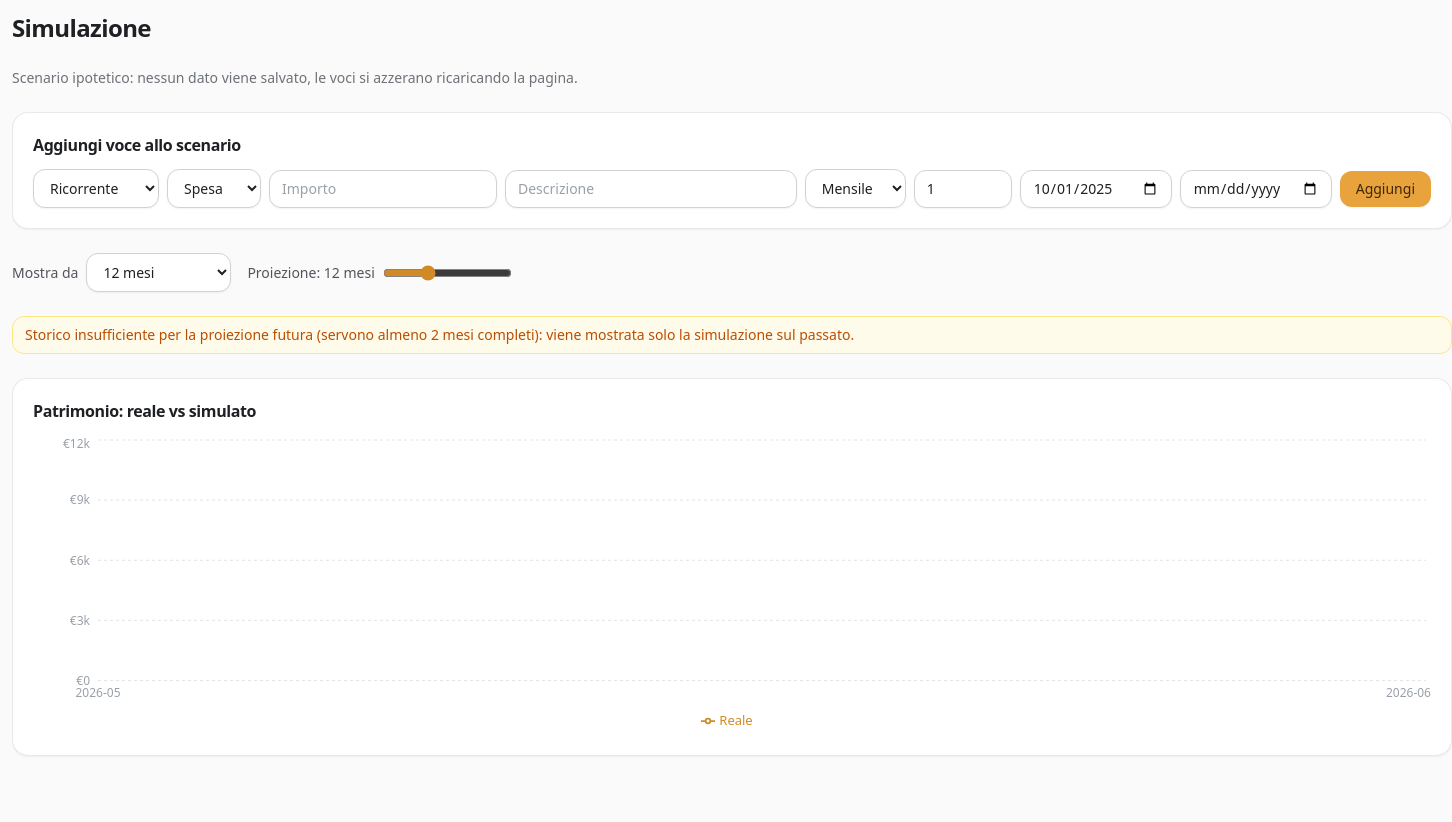
Test: SimulationPage › removes a scenario item
The image size is (1452, 822).
Type "800" into the number field labelled "Importo" at (383, 188), box [269,170,497,208]
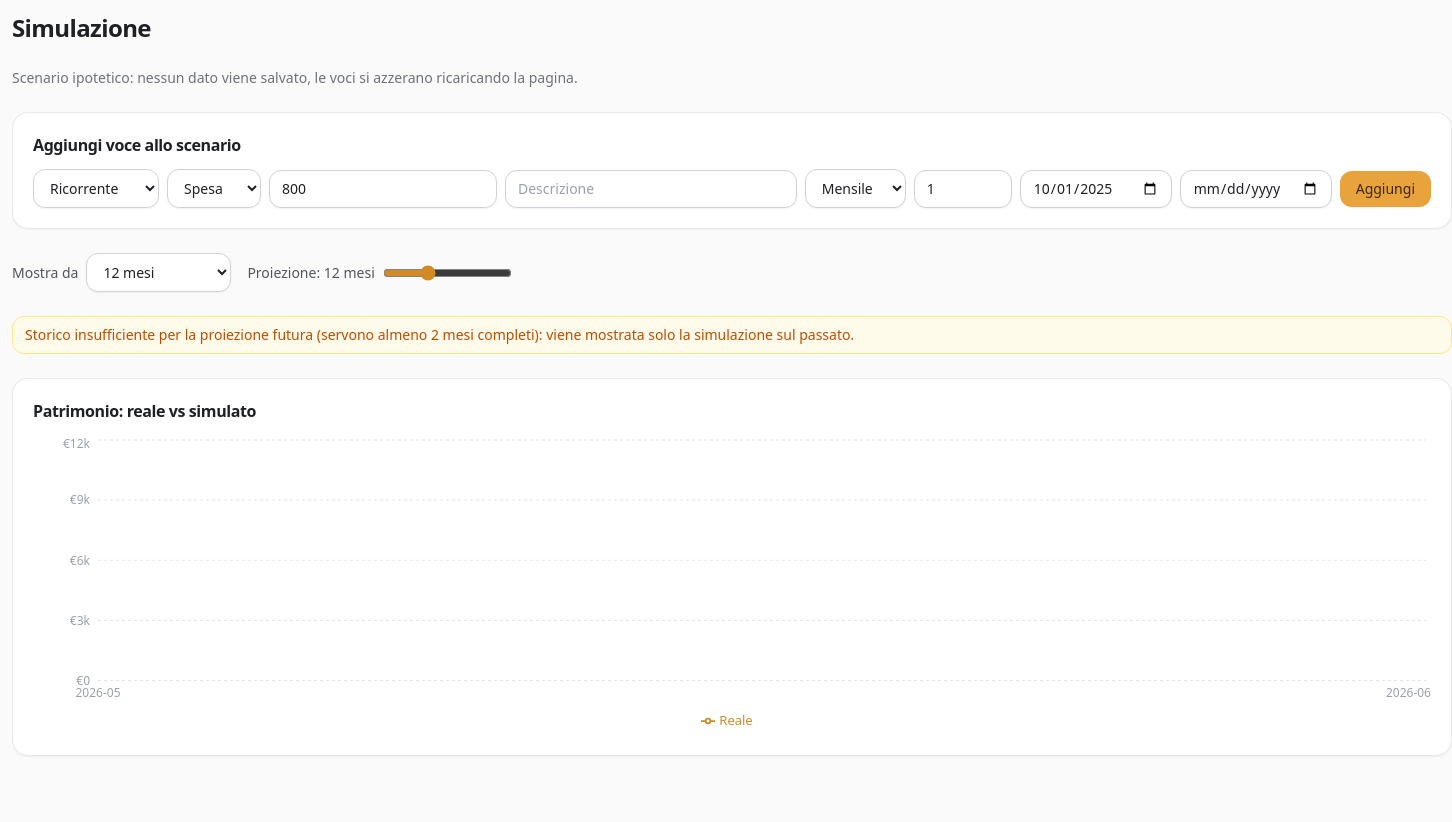
Type "Mutuo" into the field labelled "Descrizione" at (651, 188), box [505,170,797,208]
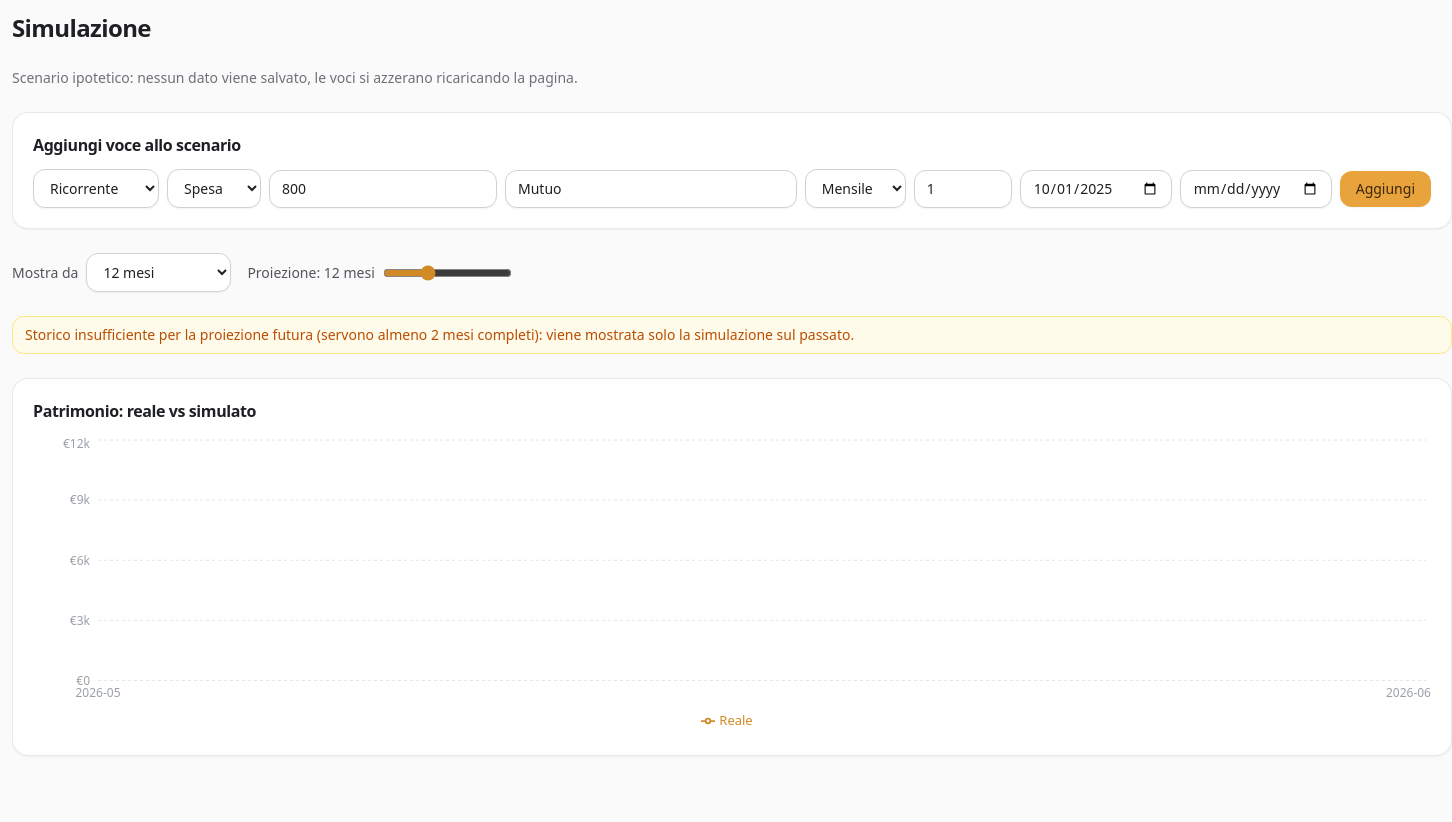
Click the button "Aggiungi" at (1385, 188), box [1340,170,1431,206]
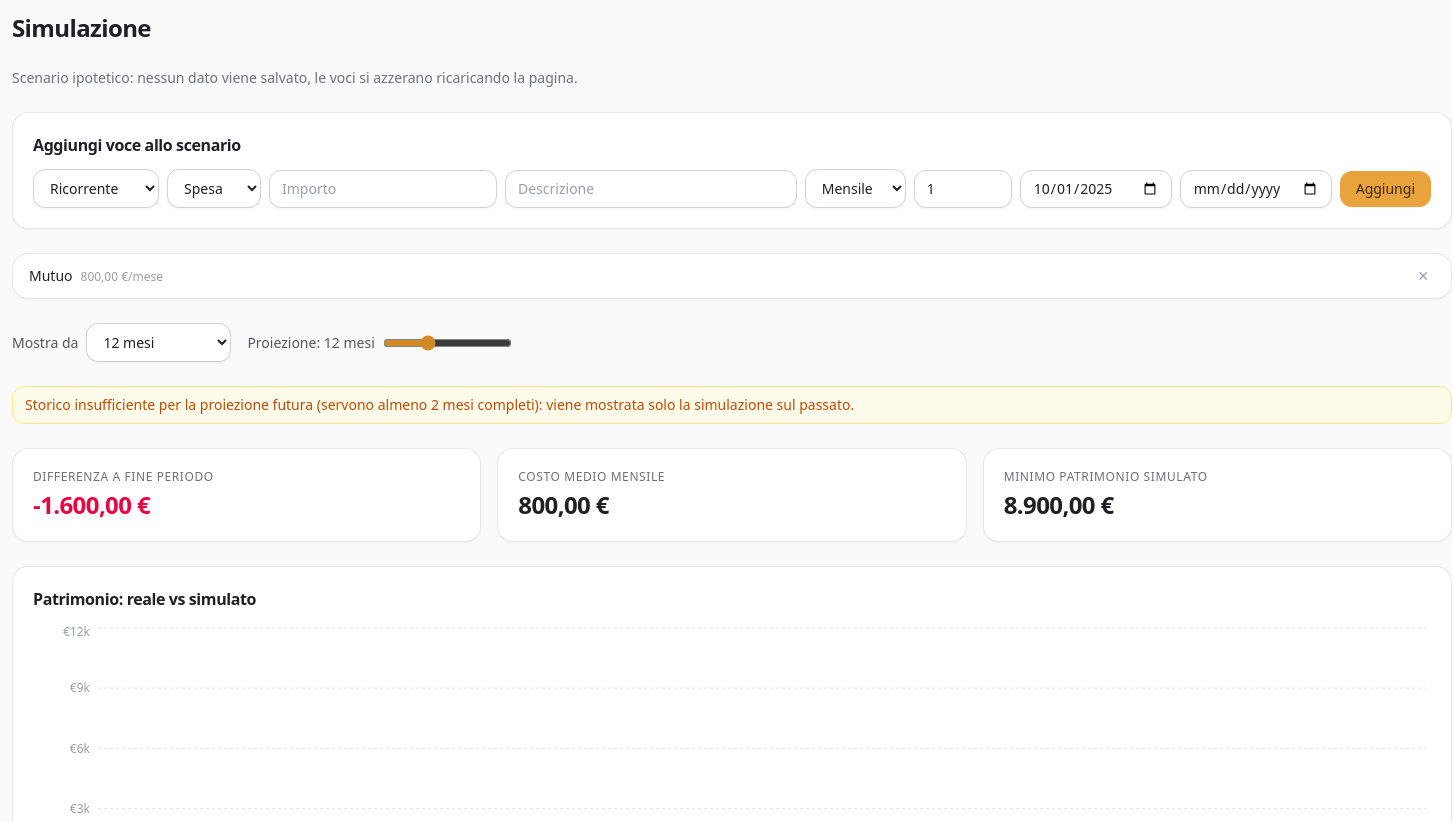
Click the button named "Rimuovi Mutuo" at (1423, 276), box [1411,264,1435,288]
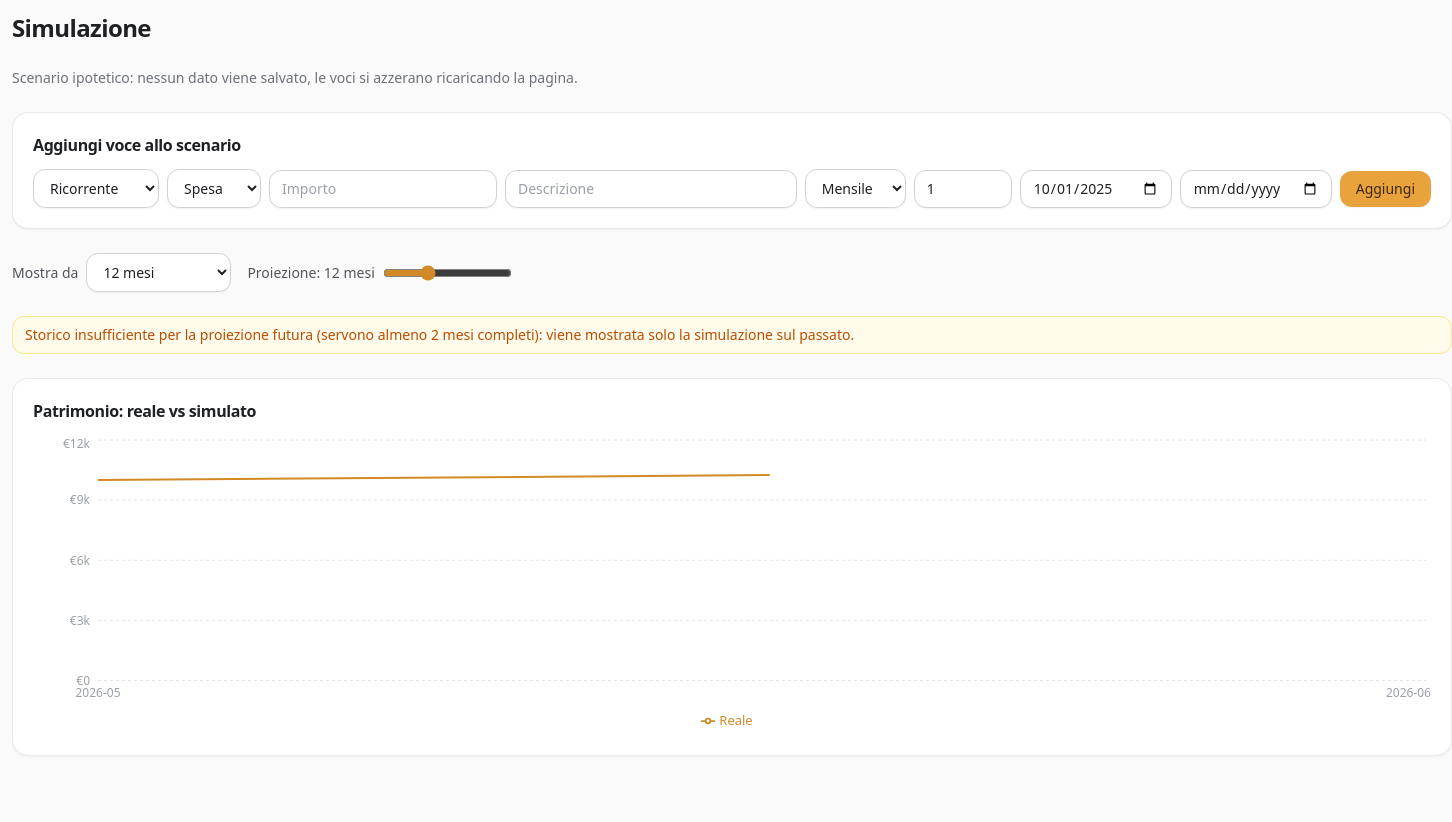
Check: the text "Costo medio mensile" is gone
